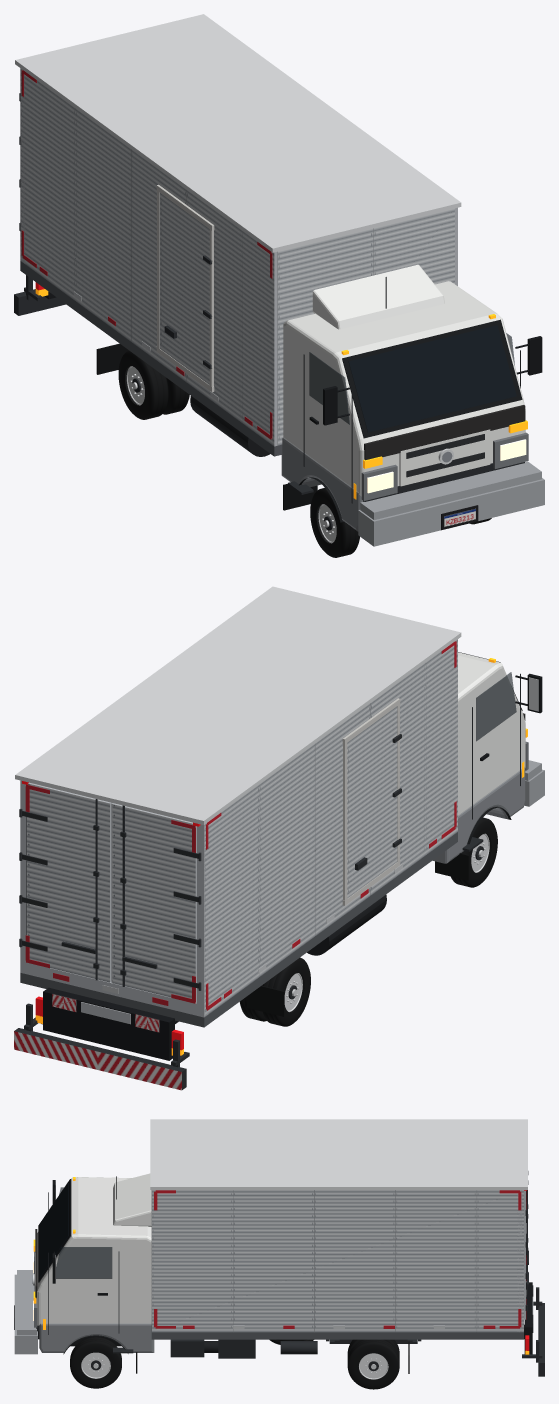
The model's file is vw_delivery_kzb.glb.
The picture shows the model from 3 angles, top to bottom: view 1: azimuth 30°, elevation 25°; view 2: azimuth 150°, elevation 25°; view 3: azimuth 270°, elevation 25°; orthographic projection. The views are drawn at different scales.
Parts seen in each view (by area): view 1: Roof, Side_Panel, Cab_Body, Windshield_Frame, Windshield, Front_Wall, Side_Door, Roof_Deflector, Front_Bumper, Tire (×2), Front_Bumper_Lip, Cowl_Band (+10 smaller); view 2: Roof, Side_Panel (×2), Rear_Door (×2), Cab_Body, Side_Door, Rear_Panel, Floor_Frame, Rear_Underride_Bar, Tire (×2), Cab_Skirt, Rear_Post (×2), Rear_Sill (+4 smaller); view 3: Side_Panel, Roof, Cab_Body, Tire (×2), Floor_Frame, Cab_Skirt, Windshield_Frame, Roof_Deflector, Door_Glass, Windshield, Front_Bumper_Lip, Rim_Barrel (×2) (+7 smaller).
Boxes of the visible parts, x1=… form: Roof: x1=15, y1=14, x2=461, y2=252; Side_Panel: x1=20, y1=68, x2=277, y2=446; Cab_Body: x1=283, y1=281, x2=525, y2=496; Windshield_Frame: x1=342, y1=319, x2=522, y2=438; Windshield: x1=348, y1=325, x2=516, y2=432; Front_Wall: x1=277, y1=208, x2=454, y2=445; Side_Door: x1=159, y1=193, x2=209, y2=384; Roof_Deflector: x1=312, y1=264, x2=444, y2=329; Front_Bumper: x1=358, y1=478, x2=544, y2=546; Tire (×2): x1=118, y1=350, x2=359, y2=557; Front_Bumper_Lip: x1=360, y1=461, x2=541, y2=519; Cowl_Band: x1=364, y1=405, x2=525, y2=460; Roof: x1=15, y1=586, x2=461, y2=824; Side_Panel (×2): x1=20, y1=639, x2=457, y2=1017; Rear_Door (×2): x1=26, y1=782, x2=196, y2=1002; Cab_Body: x1=458, y1=652, x2=525, y2=815; Side_Door: x1=347, y1=706, x2=397, y2=898; Rear_Panel: x1=43, y1=987, x2=174, y2=1060; Floor_Frame: x1=20, y1=832, x2=457, y2=1027; Rear_Underride_Bar: x1=14, y1=1028, x2=186, y2=1090; Tire (×2): x1=262, y1=817, x2=497, y2=1026; Cab_Skirt: x1=432, y1=767, x2=525, y2=863; Rear_Post (×2): x1=20, y1=781, x2=208, y2=1016; Rear_Sill: x1=20, y1=961, x2=204, y2=1016; Side_Panel: x1=151, y1=1190, x2=523, y2=1332; Roof: x1=150, y1=1119, x2=527, y2=1189; Cab_Body: x1=37, y1=1177, x2=151, y2=1325; Tire (×2): x1=70, y1=1337, x2=399, y2=1389; Floor_Frame: x1=151, y1=1332, x2=523, y2=1339; Cab_Skirt: x1=39, y1=1323, x2=154, y2=1352; Windshield_Frame: x1=38, y1=1179, x2=70, y2=1282; Roof_Deflector: x1=113, y1=1173, x2=151, y2=1226; Door_Glass: x1=56, y1=1247, x2=112, y2=1278; Windshield: x1=39, y1=1183, x2=68, y2=1277; Front_Bumper_Lip: x1=17, y1=1270, x2=36, y2=1335; Rim_Barrel (×2): x1=82, y1=1352, x2=387, y2=1378.
Size of the model in its own units: 2.72 by 3.4 by 7.84.
Materials: 45 (3 with a texture image).
